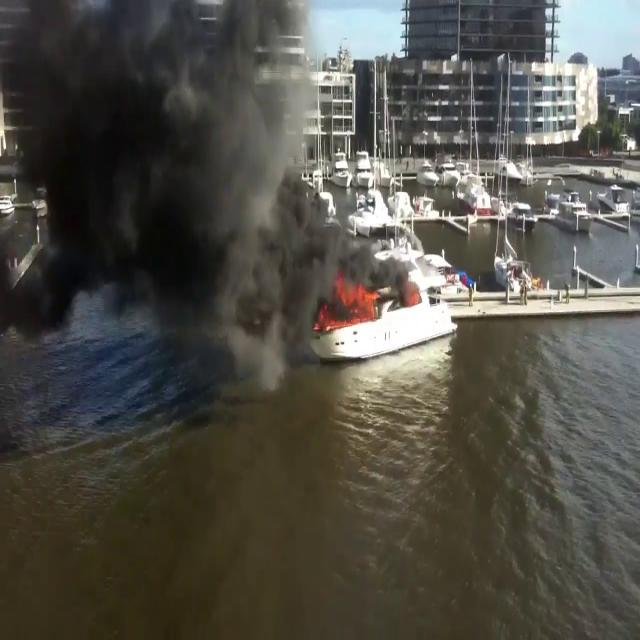Fire: (320, 274, 380, 328)
Smoke: (0, 1, 380, 358)
